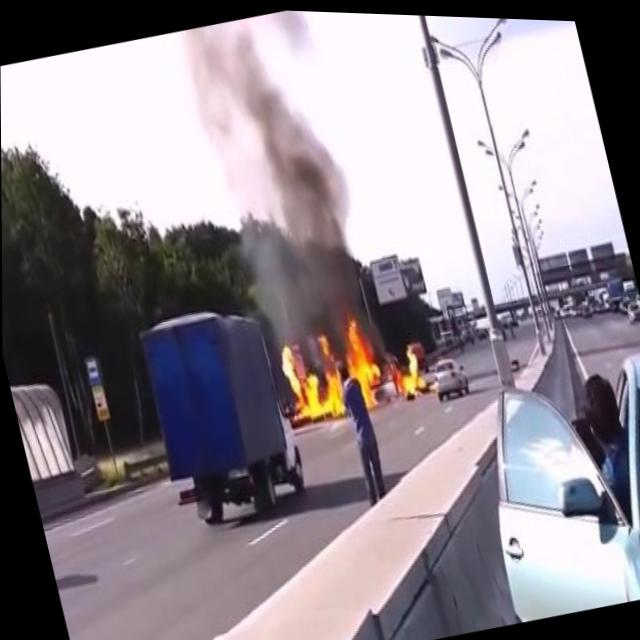fire: (271, 304, 391, 431), (388, 336, 431, 401)
